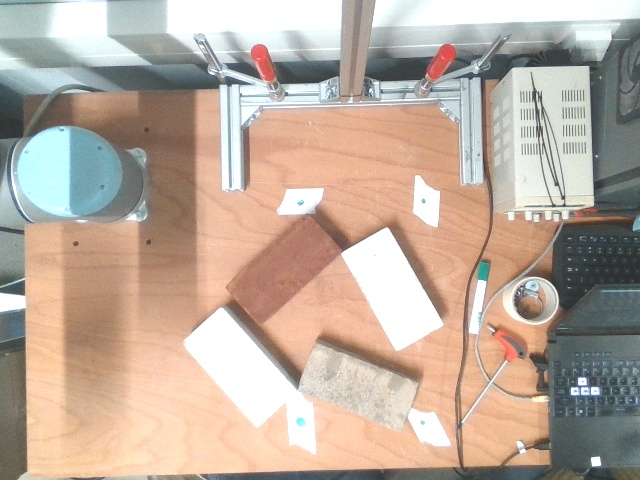brick: (181, 307, 297, 427), (341, 228, 443, 351), (229, 215, 340, 323), (297, 343, 420, 433)
